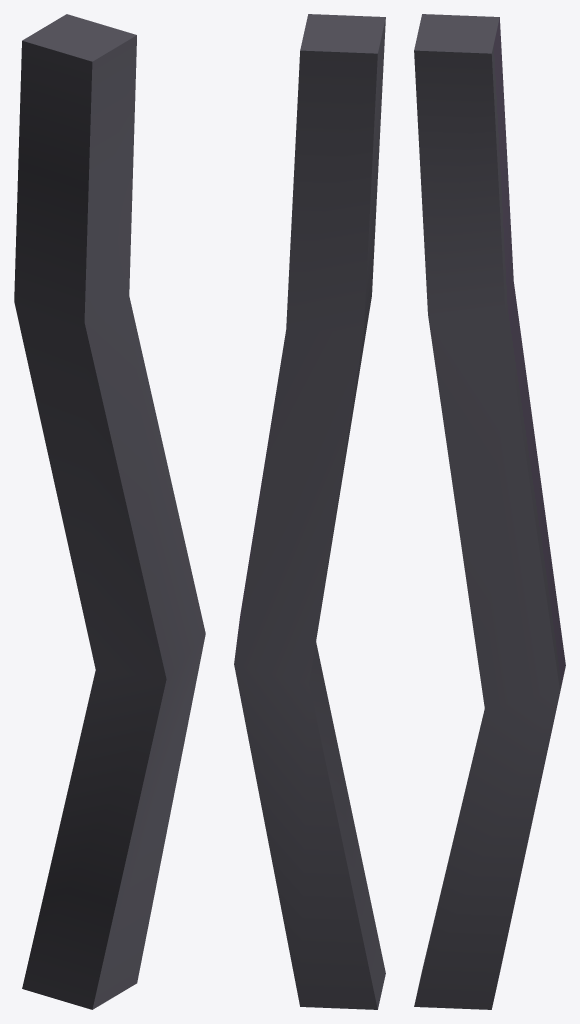
Rendered from SS_Wood1_Modular.fbx.
The picture shows the model from 3 angles, left to right: view 1: azimuth 30°, elevation 25°; view 2: azimuth 150°, elevation 25°; view 3: azimuth 330°, elevation 25°; orthographic projection.
Visible parts, largest first — view 1: Wood2FenceCabin_Modular; view 2: Wood2FenceCabin_Modular; view 3: Wood2FenceCabin_Modular.
Part boxes in pixels (x1,y1,x2,y2): Wood2FenceCabin_Modular: [14, 14, 205, 1009]; Wood2FenceCabin_Modular: [234, 14, 385, 1009]; Wood2FenceCabin_Modular: [414, 14, 565, 1009].
Bounding box in the file's own units: 0.3284 × 1.86 × 0.242.
